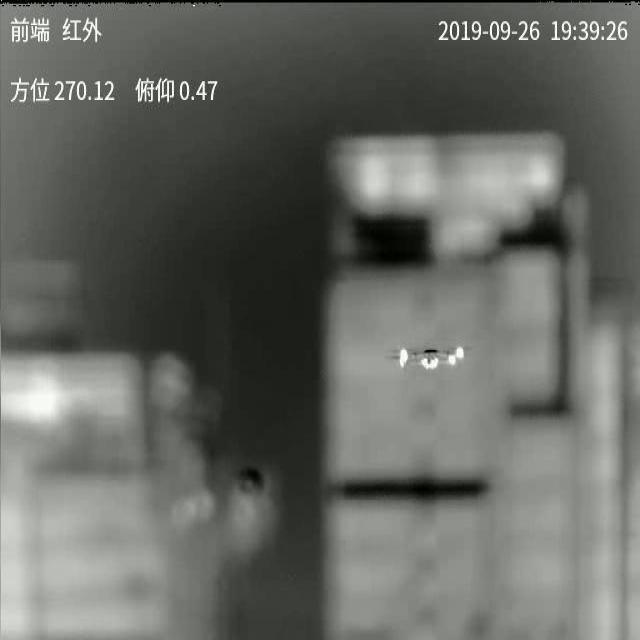drone: (387, 345, 474, 370)
